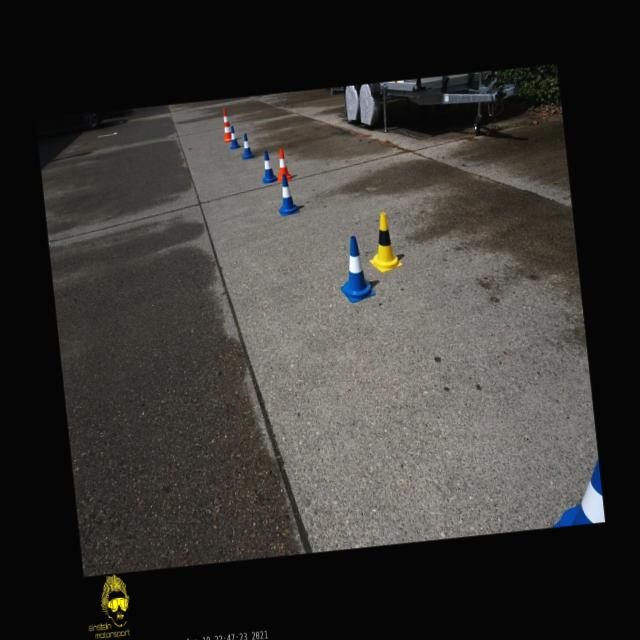blue_cone: (546, 458, 604, 527), (335, 234, 376, 303), (274, 173, 299, 216), (259, 149, 277, 184), (240, 132, 255, 159), (228, 125, 240, 149)
large_orange_cone: (220, 107, 232, 142)
orange_cone: (274, 148, 292, 182)
yellow_cone: (364, 210, 402, 273)
